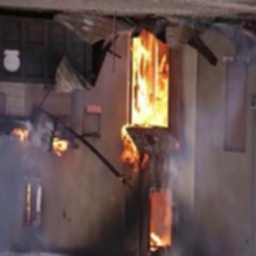fire: (125, 42, 170, 129), (143, 188, 175, 256)
